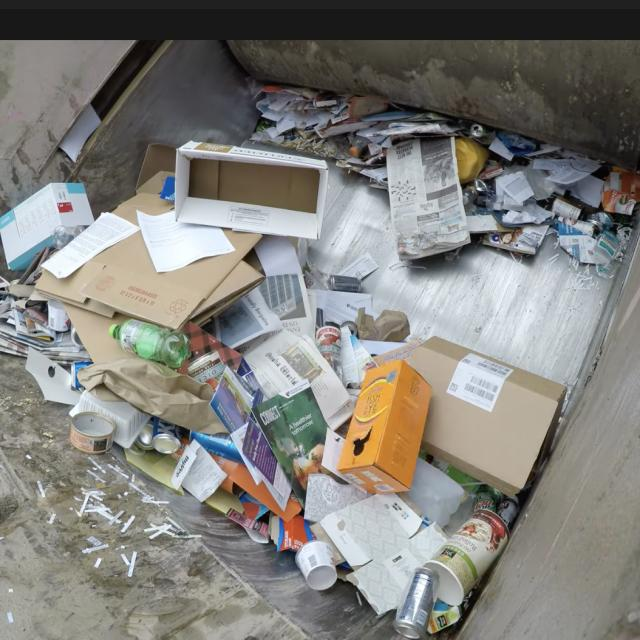cardboard: (332, 318, 587, 518), (148, 118, 365, 259), (0, 173, 111, 254)
paper: (386, 101, 640, 306)
